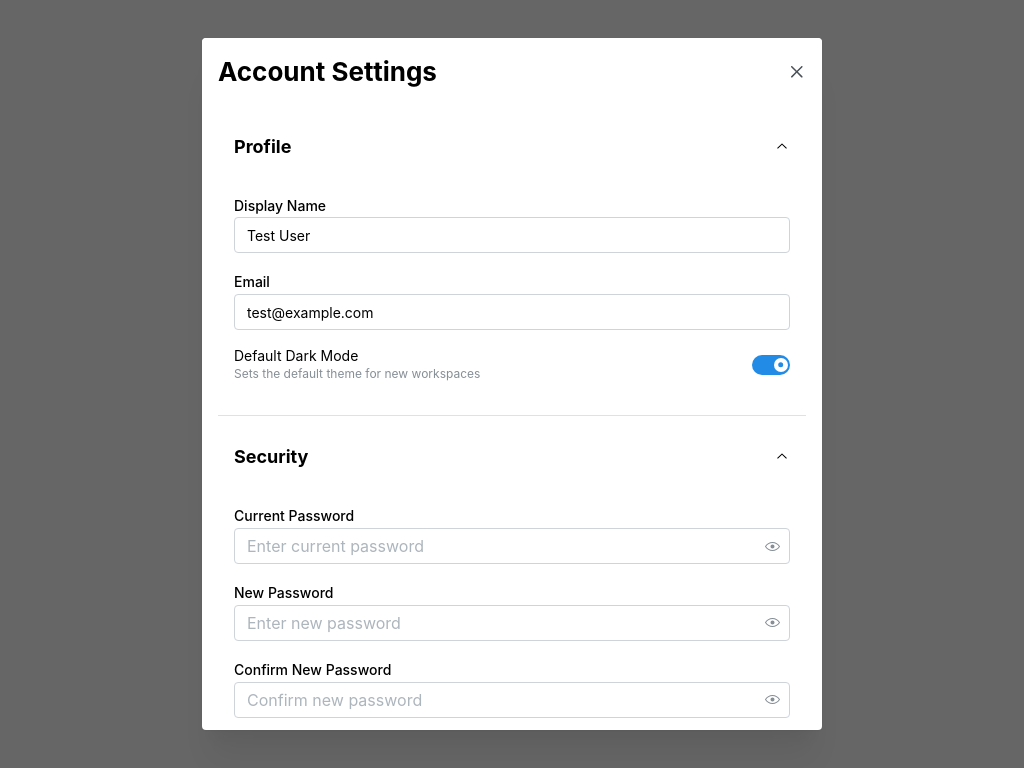
Test: AccountSettings › shows unsaved changes badge when settings are modified
The image size is (1024, 768).
Replace the text in the field with test id "display-name-input" with "Updated Name": coordinates (512, 235) [234,217,790,253]
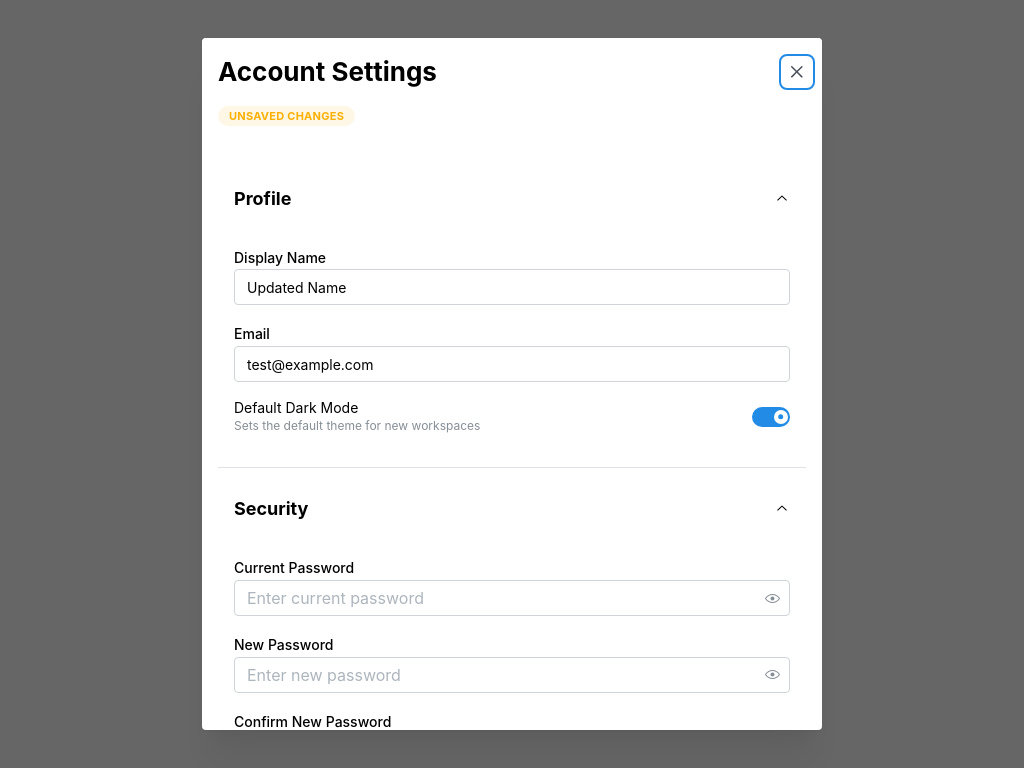
Result: the text "Unsaved Changes" is shown at [229,106,344,124]
